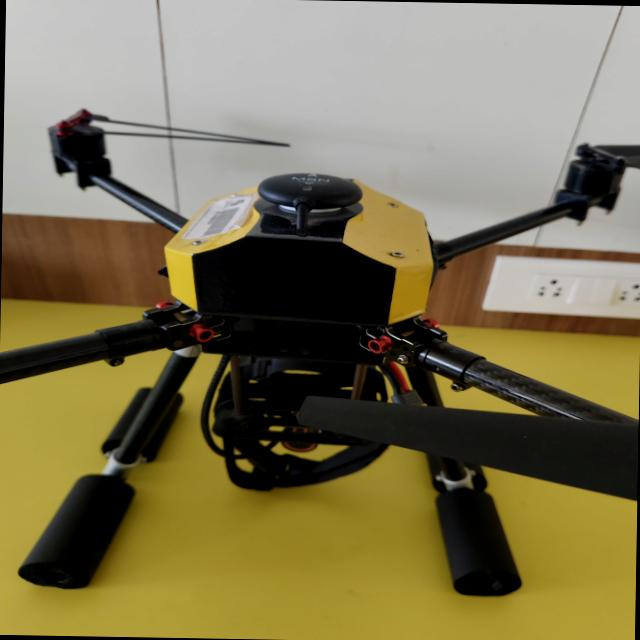quadcopter: (0, 95, 640, 608)
